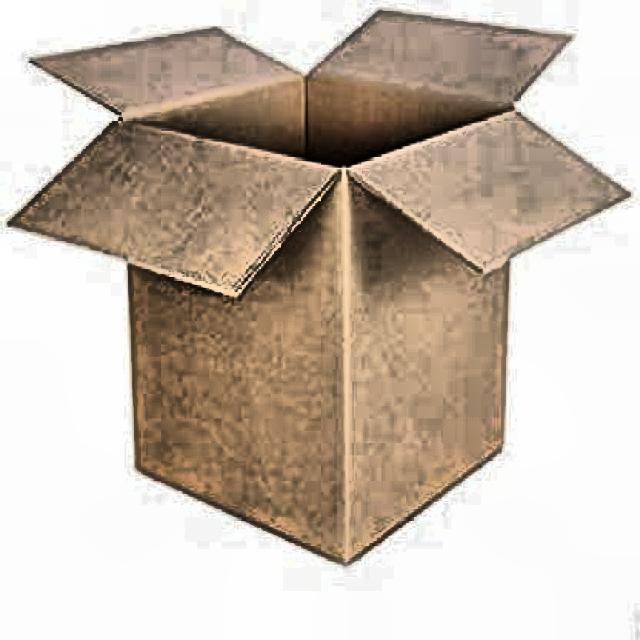Cardbox: (14, 0, 632, 571)
